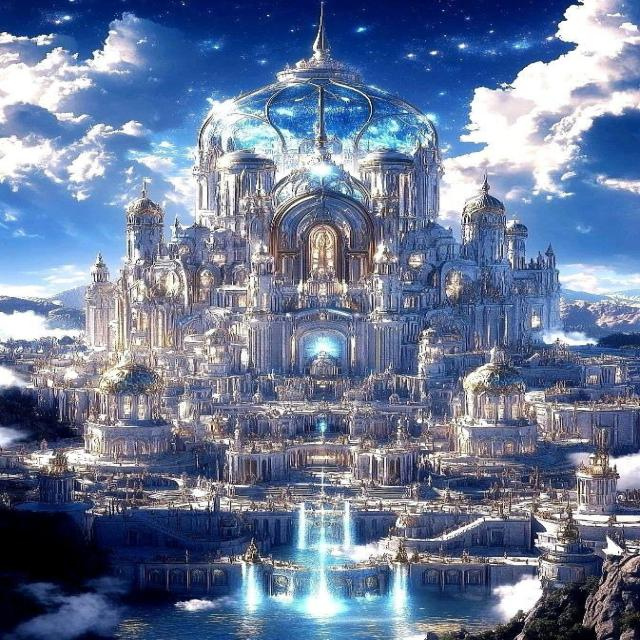castle: (3, 12, 620, 526)
